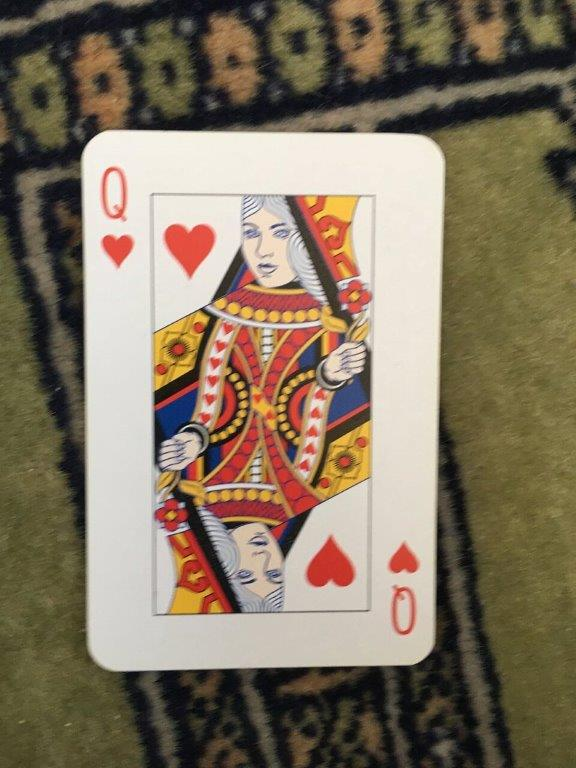QH: (76, 125, 450, 676)
